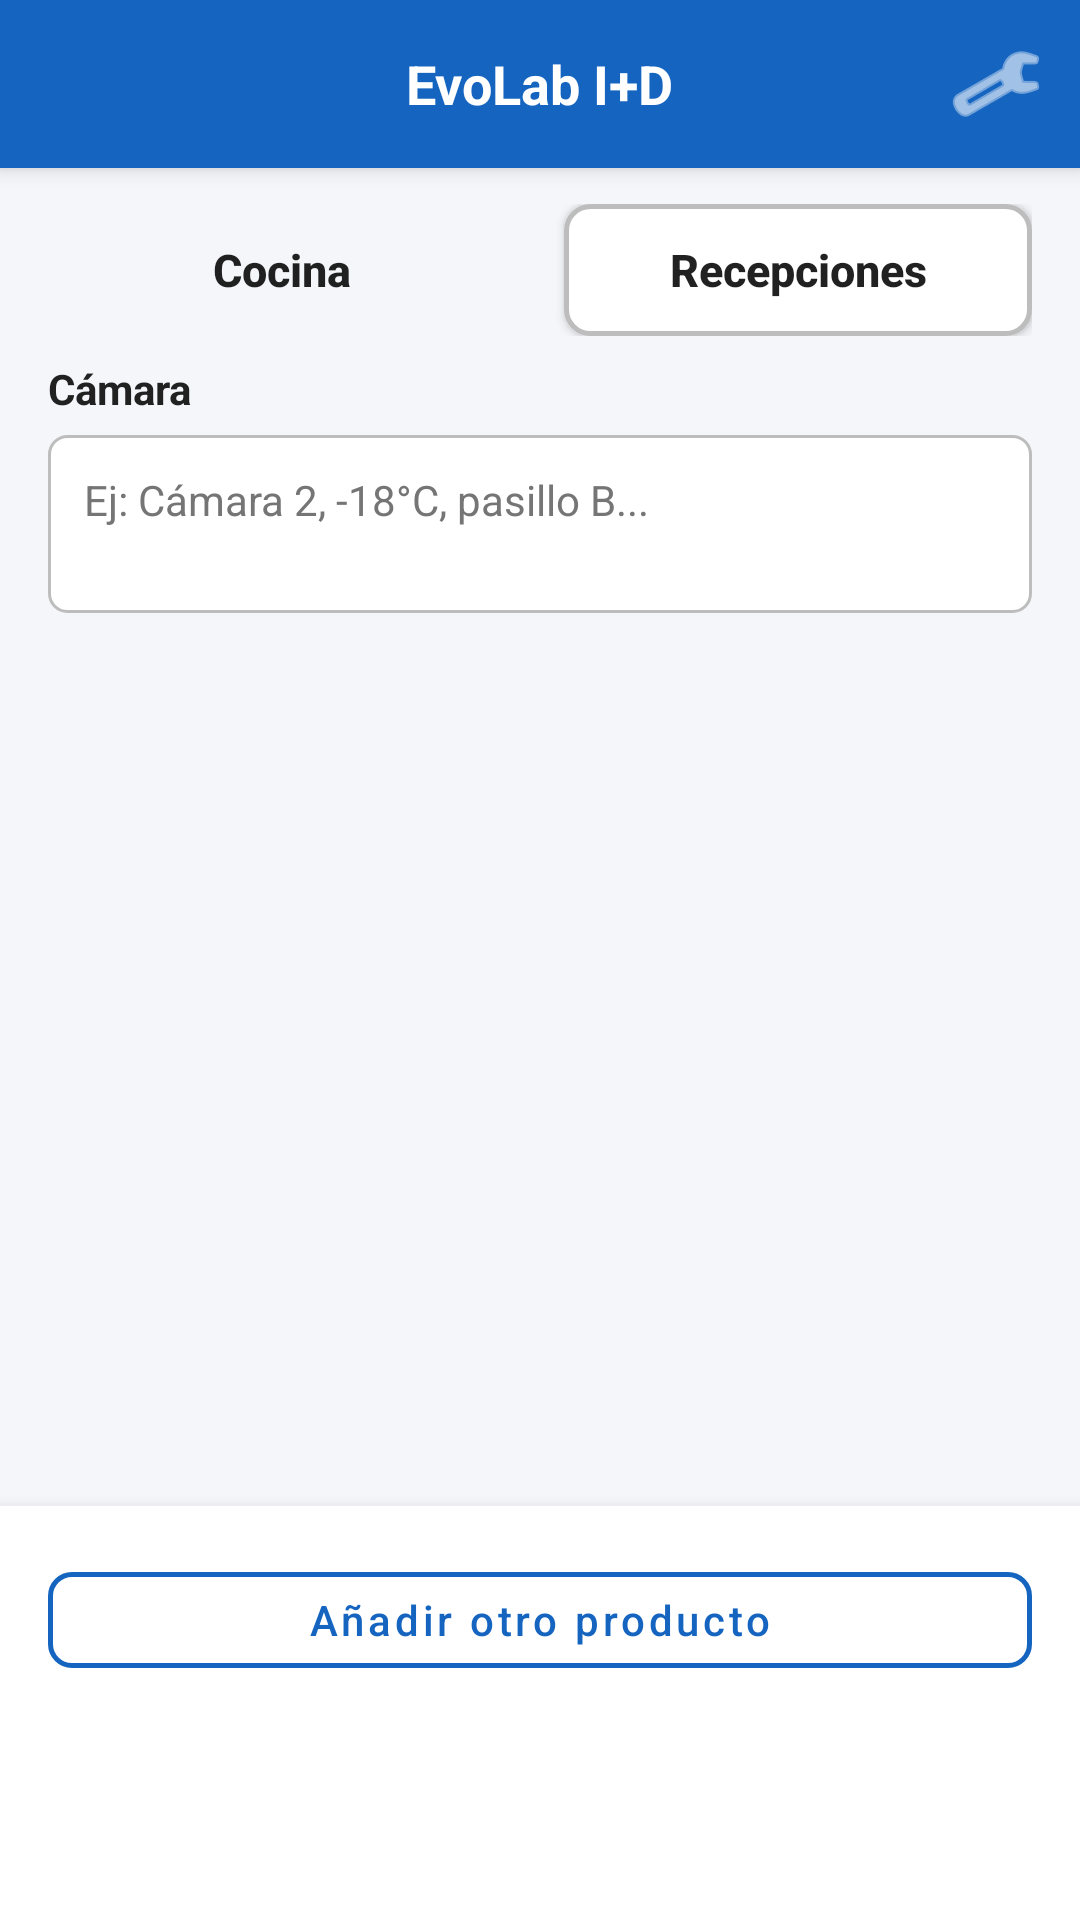

Point at icon controls on the screen. Image size 1080*1920, points as (x=x, y=y).
Configuración: (x=996, y=84)
